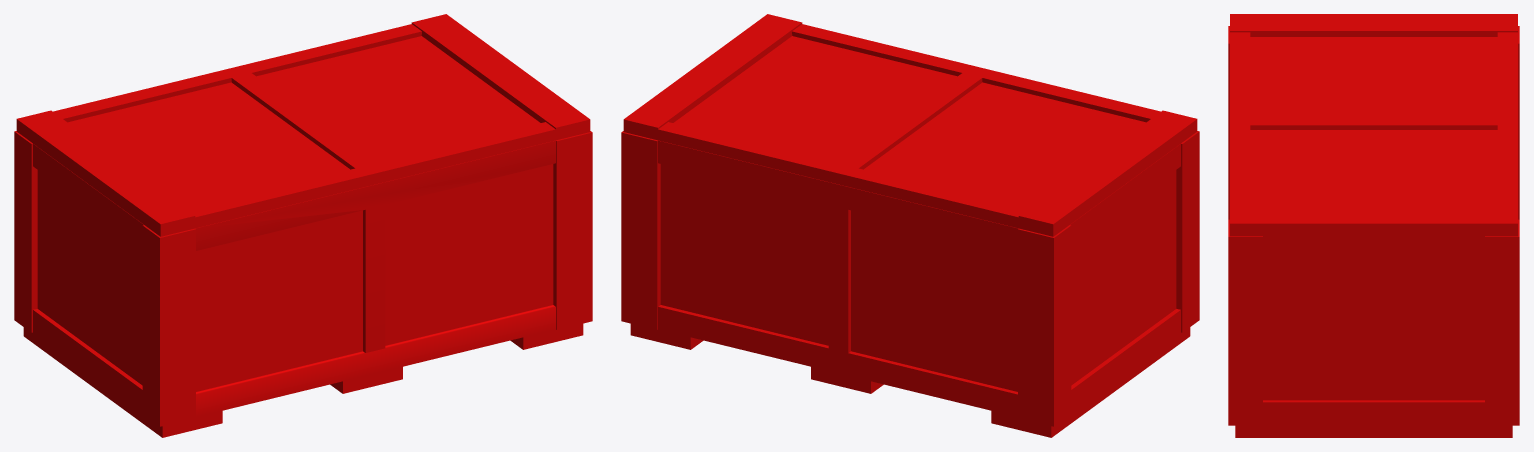
Rendered from Open Lid.fbx.
3 views of the same model, side by side, from view 1: azimuth 30°, elevation 25°; view 2: azimuth 150°, elevation 25°; view 3: azimuth 270°, elevation 25° (orthographic).
Visible parts, largest first — view 1: Crate_Body, Crate_Lid; view 2: Crate_Body, Crate_Lid; view 3: Crate_Lid, Crate_Body.
Part boxes in pixels (x1=…): Crate_Body: x1=14, y1=131, x2=592, y2=437; Crate_Lid: x1=16, y1=14, x2=590, y2=236; Crate_Body: x1=621, y1=131, x2=1199, y2=437; Crate_Lid: x1=623, y1=14, x2=1197, y2=236; Crate_Lid: x1=1230, y1=14, x2=1517, y2=236; Crate_Body: x1=1228, y1=26, x2=1519, y2=437.
Size of the model in its own units: 72 by 34.45 by 42.
